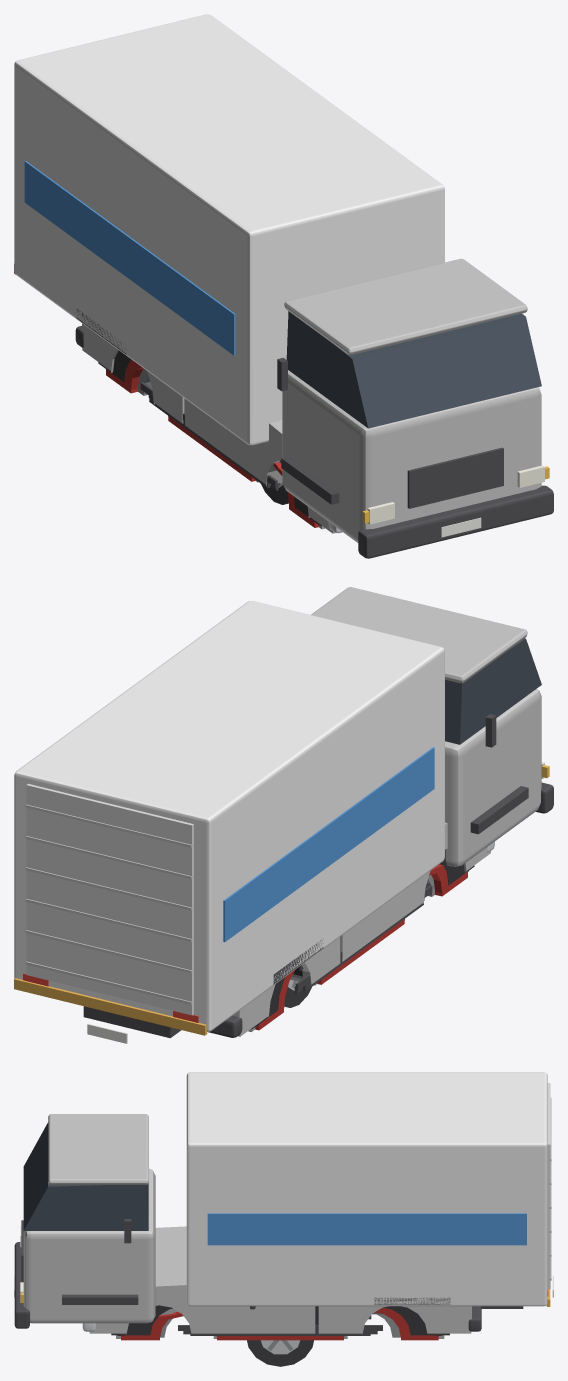
The model's file is cars_kit.glb.
3 views of the same model, one above another, from view 1: azimuth 30°, elevation 25°; view 2: azimuth 150°, elevation 25°; view 3: azimuth 270°, elevation 25° (orthographic). The views are drawn at different scales.
Visible parts, largest first — view 1: TCar_Truck_White, TCar_Pickup_White, TCar_Coupe_Red, TCar_SUV_Black; view 2: TCar_Truck_White, TCar_Pickup_White, TCar_Coupe_Red, TCar_SUV_Black; view 3: TCar_Truck_White, TCar_Pickup_White, TCar_Coupe_Red, TCar_SUV_Black, Wheel_Truck.
Part boxes in pixels (x1,y1,x2,y2): TCar_Truck_White: (14,14,553,558); TCar_Pickup_White: (75,323,342,533); TCar_Coupe_Red: (104,360,318,527); TCar_SUV_Black: (98,350,321,525); TCar_Truck_White: (14,587,553,1043); TCar_Pickup_White: (208,822,494,1037); TCar_Coupe_Red: (255,864,469,1030); TCar_SUV_Black: (251,849,474,1029); TCar_Truck_White: (14,1072,553,1328); TCar_Pickup_White: (82,1226,481,1334); TCar_Coupe_Red: (117,1306,441,1340); TCar_SUV_Black: (111,1305,449,1335); Wheel_Truck: (247,1340,313,1366).
Size of the model in its own units: 2.72 by 4.05 by 7.78.
